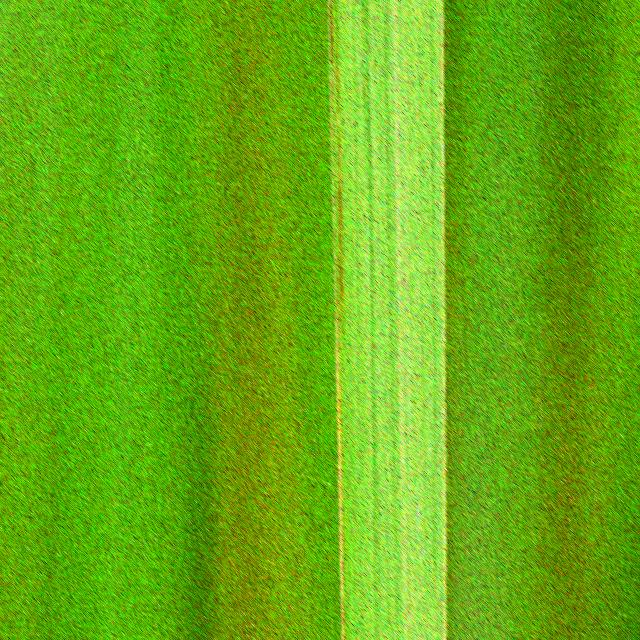BLS: (329, 0, 345, 640), (336, 0, 344, 334), (362, 0, 365, 128)
